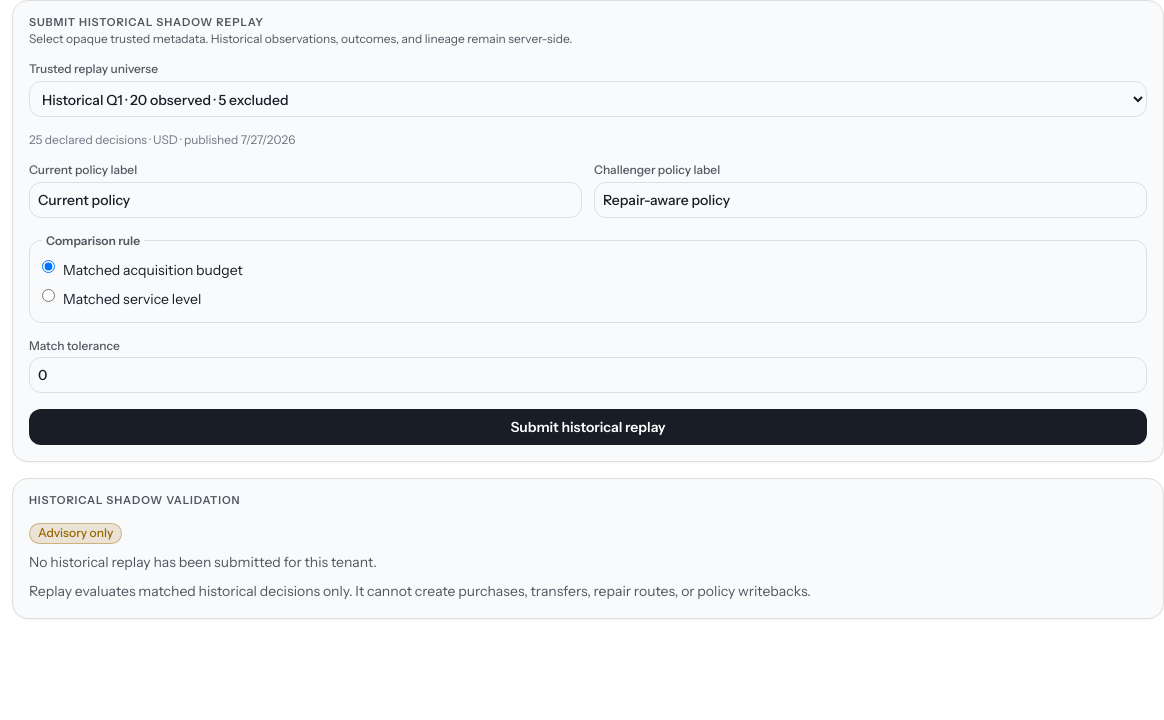
Test case: ShadowValidationPanel › lets planners submit only opaque trusted universe metadata and activates polling
The width and height of the screenshot is (1164, 720).
Expected: the dropdown labelled "Trusted replay universe" shows "Historical Q1 · 20 observed · 5 excluded", [29,81,1147,117]
Expected: the element "Comparison rule" is shown, [29,234,1147,323]
Clear the field labelled "Match tolerance" at (588, 375), box [29,357,1147,393]
Click the button "Submit historical replay".
click(588, 427)  # box [29,409,1147,445]
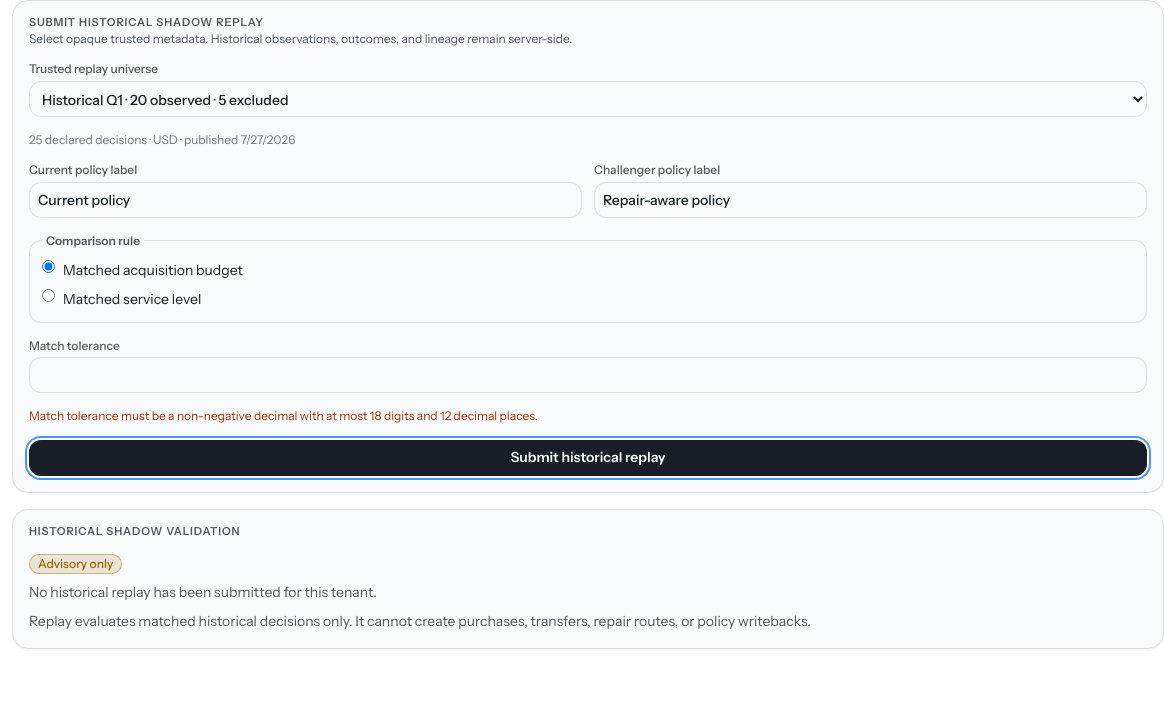
Expected: the message shows "non-negative decimal", [29,408,538,423]
Type "0x10" into the field labelled "Match tolerance".
click(588, 375); type("0x10")  # box [29,357,1147,393]
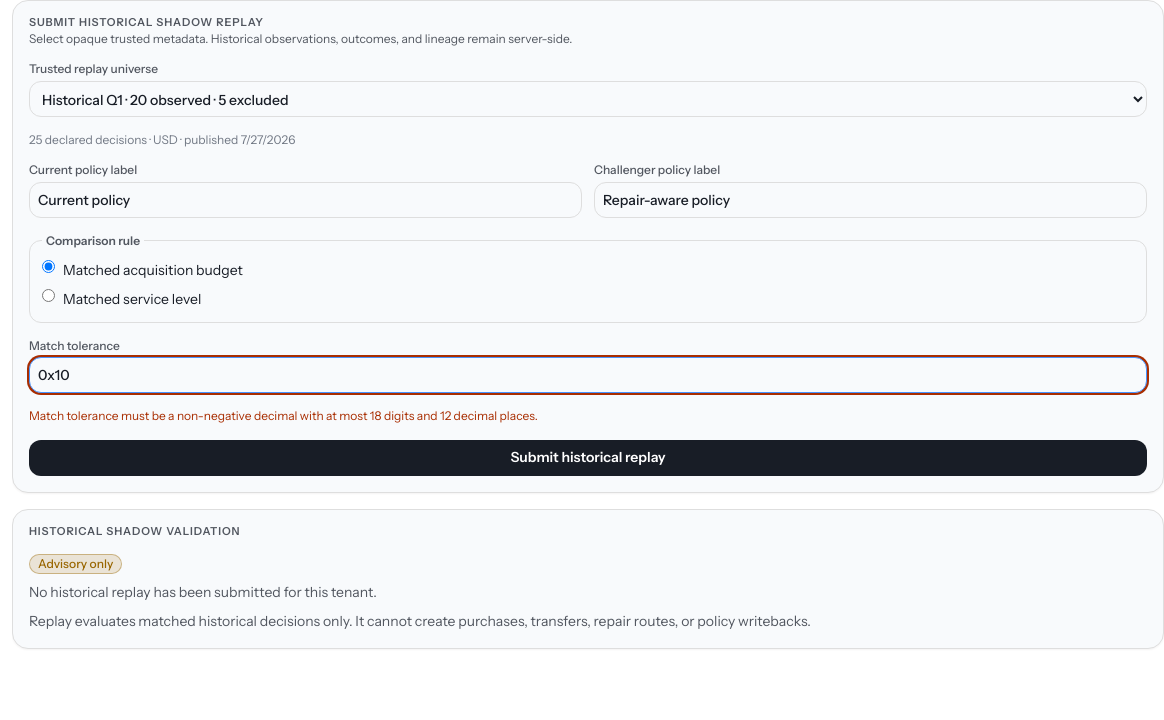
Click the button "Submit historical replay".
click(588, 458)  # box [29,440,1147,476]
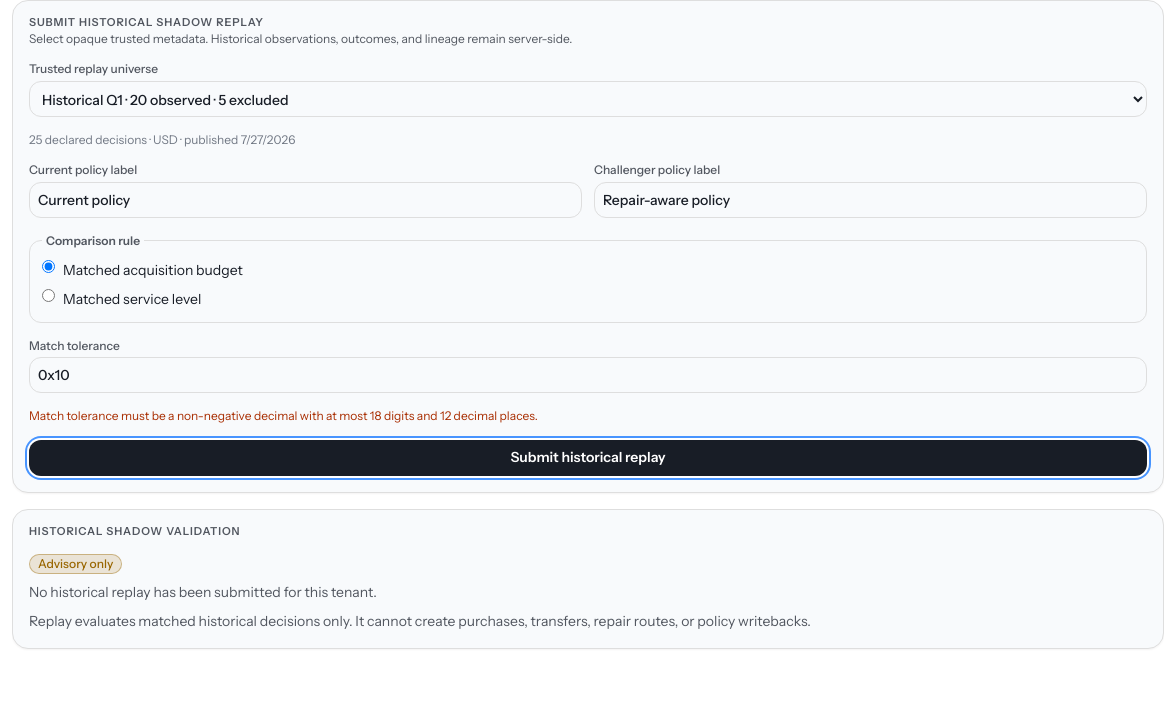
Expected: the message shows "non-negative decimal", [29,408,538,423]
Click the radio button labelled "Matched service level".
click(48, 296)  # box [42,289,55,302]
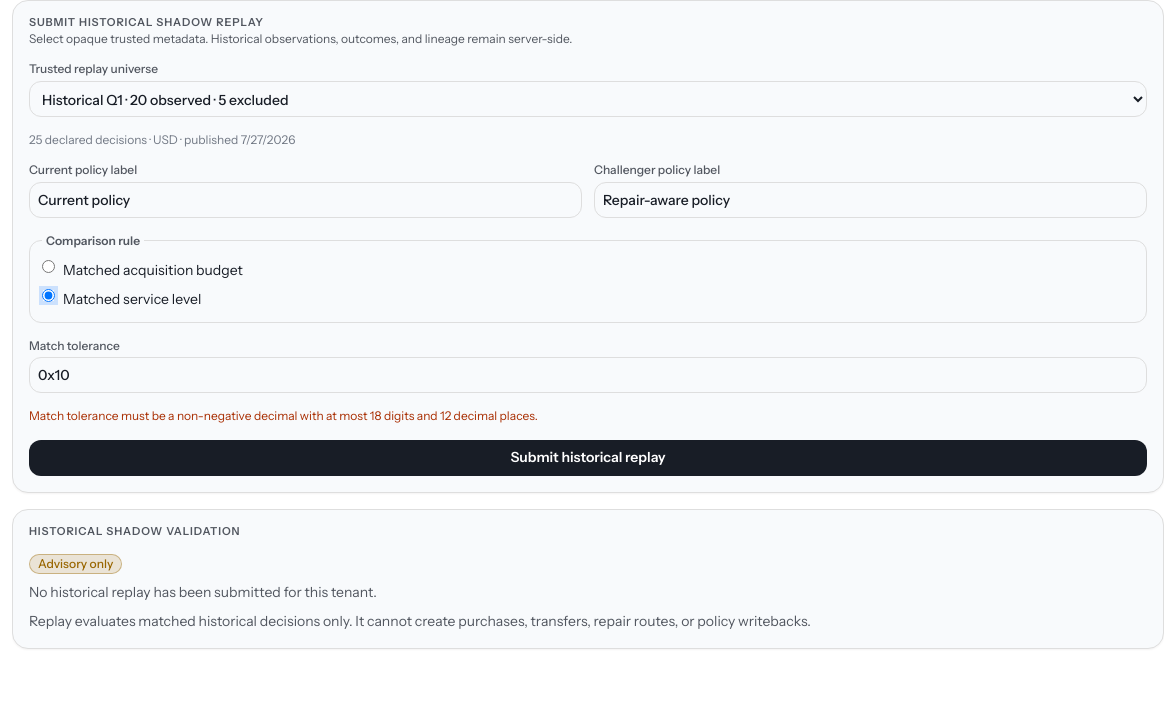
Replace the text in the field labelled "Match tolerance" with "0.05" at (588, 375), box [29,357,1147,393]
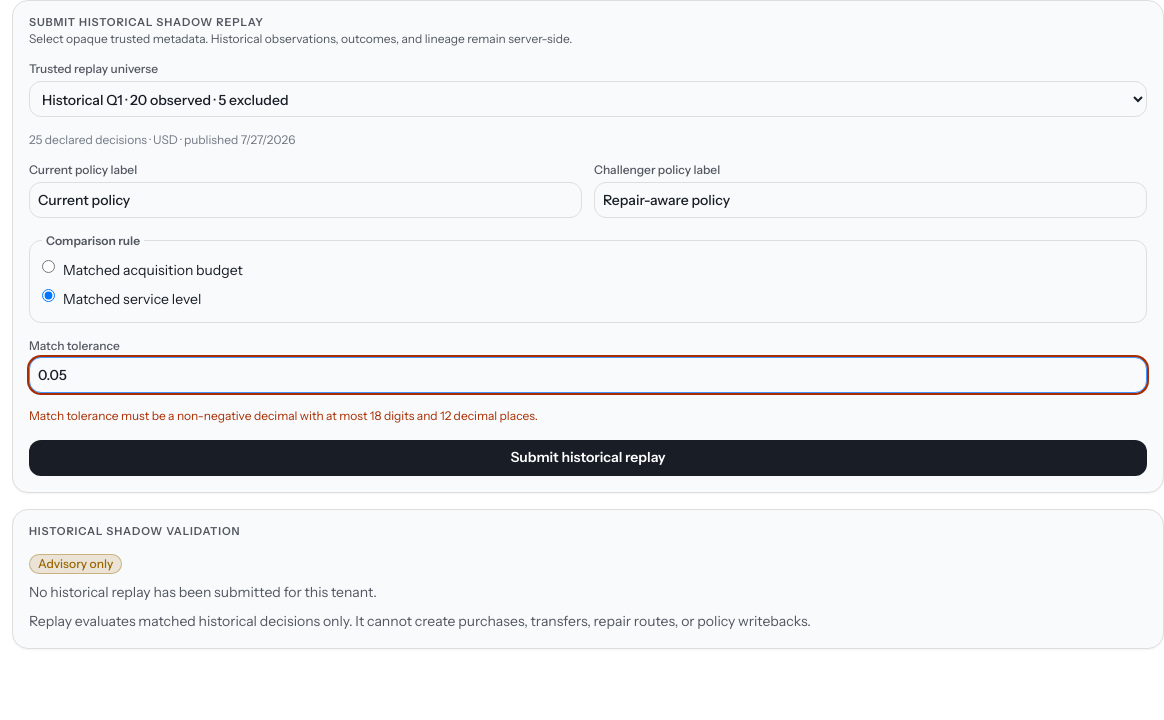
Click the button "Submit historical replay".
click(588, 458)  # box [29,440,1147,476]
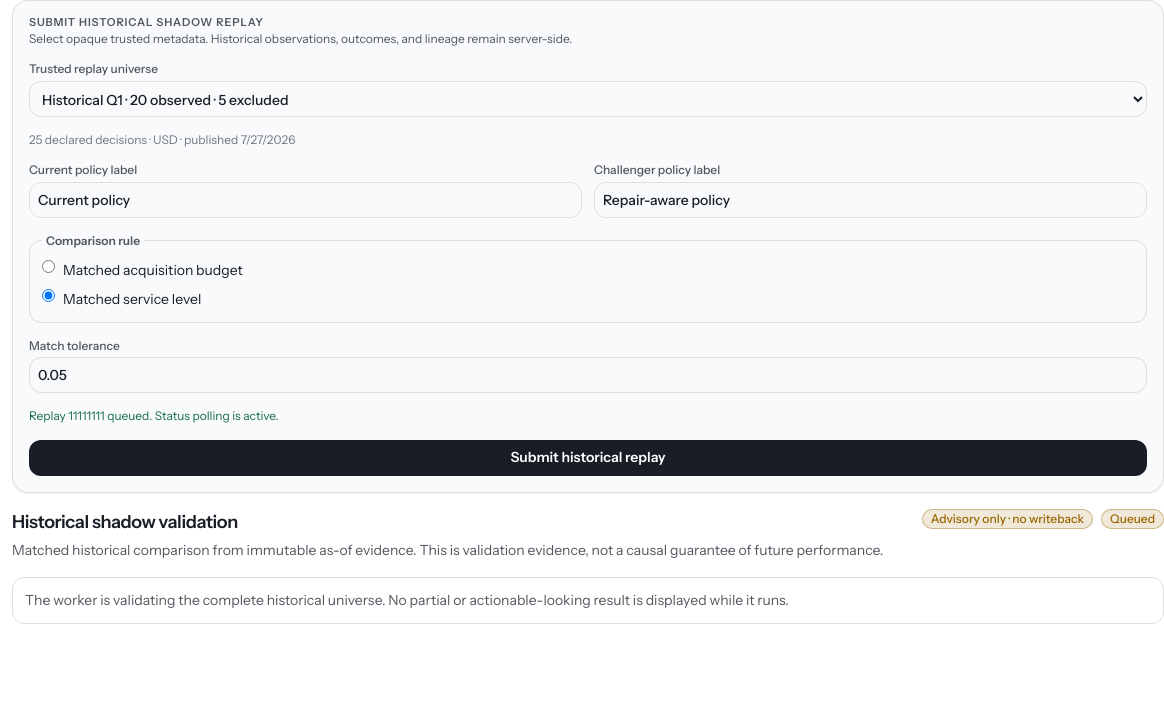
Expected: the text "Replay 11111111 queued. Status polling is active." is shown, [29,408,279,423]
